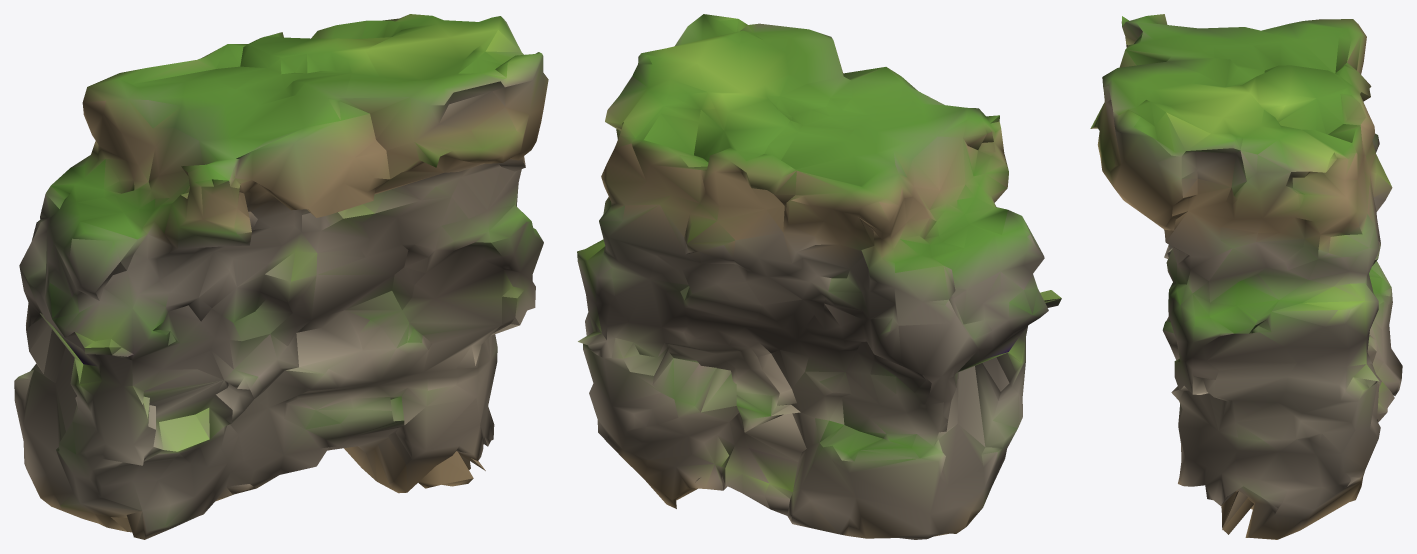
File: glade_cliff_overhang_lod1.glb
3 renders of one model, left to right at view 1: azimuth 30°, elevation 25°; view 2: azimuth 150°, elevation 25°; view 3: azimuth 270°, elevation 25°, orthographic. The views are drawn at different scales.
Visible parts, largest first — view 1: glade_cliff_overhang.001; view 2: glade_cliff_overhang.001; view 3: glade_cliff_overhang.001.
Boxes of the visible parts, <box> form: glade_cliff_overhang.001: <box>14,14,548,539</box>; glade_cliff_overhang.001: <box>577,14,1061,539</box>; glade_cliff_overhang.001: <box>1090,14,1402,539</box>.
Size of the model in its own units: 14.55 by 13.8 by 9.27.
